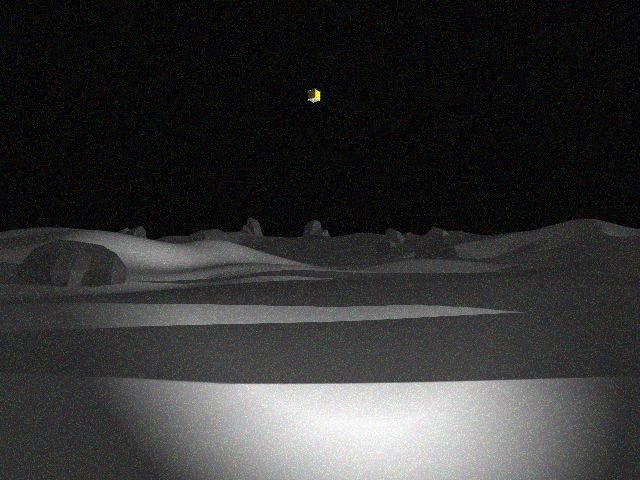cubesat: (305, 87, 323, 106)
